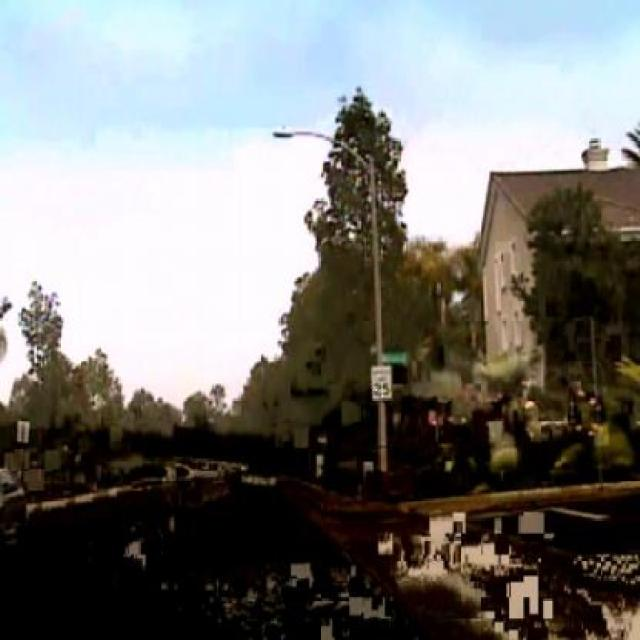speedLimit25: (371, 364, 392, 400)
